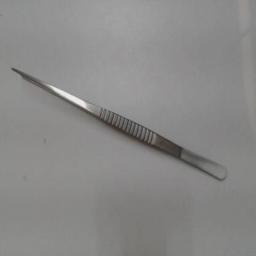DeBakey Dissector: (4, 48, 240, 196)
